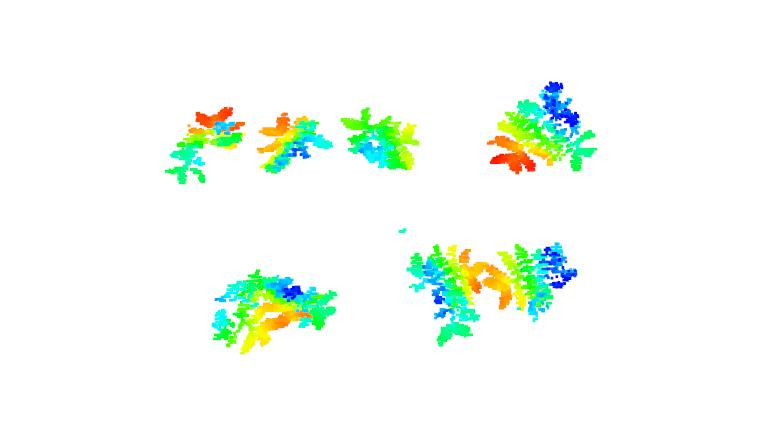chickpea: (485, 78, 599, 180), (406, 241, 483, 348), (486, 238, 578, 322), (165, 105, 245, 188), (211, 269, 289, 354), (252, 109, 335, 178), (337, 106, 422, 173), (277, 277, 342, 333)
